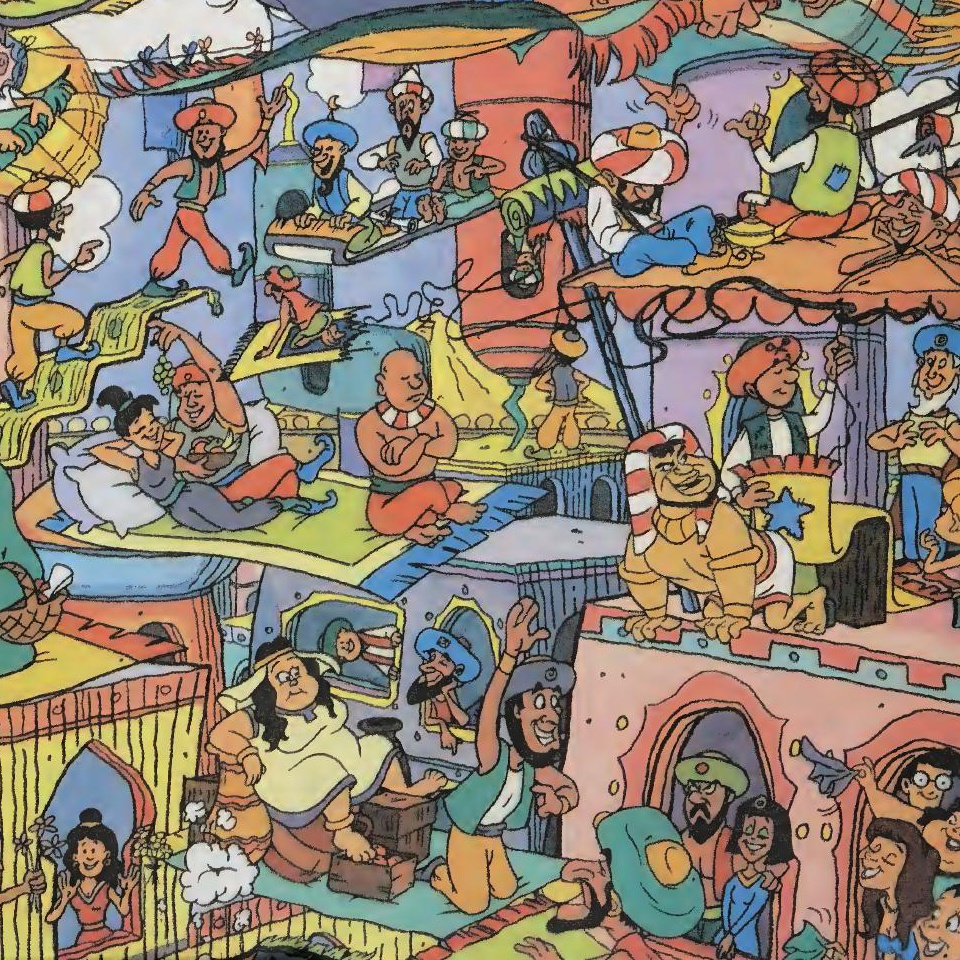waldo: (906, 753, 959, 807)
